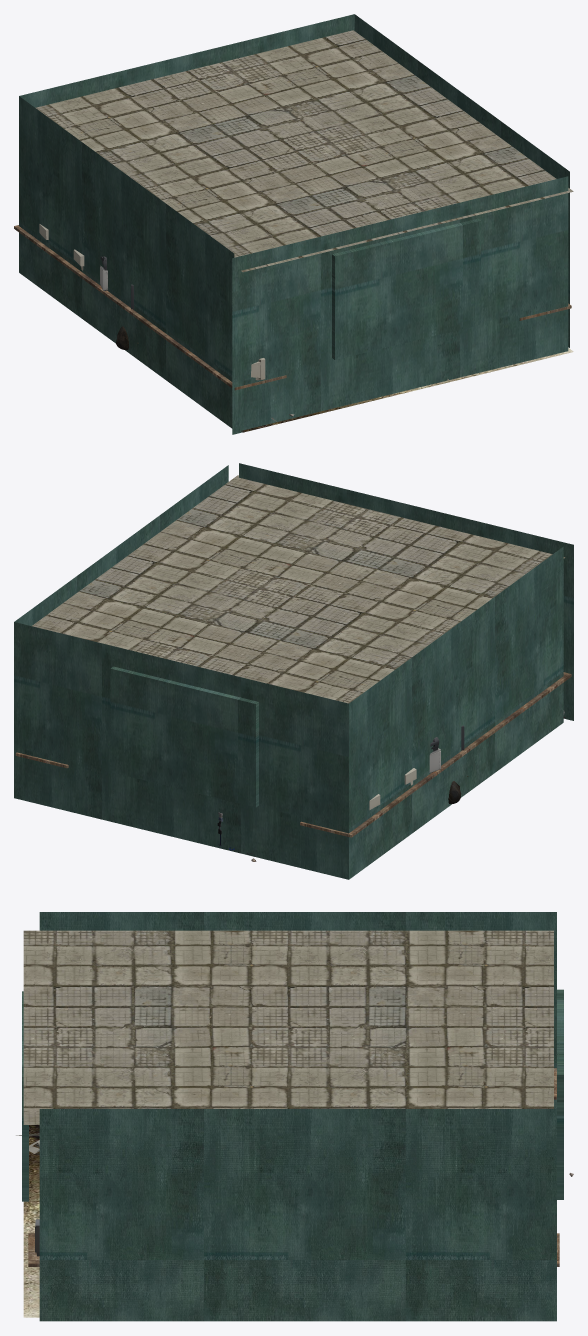
The model's file is office_is_old_abandoned_free.glb.
3 views of the same model, one above another, from view 1: azimuth 30°, elevation 25°; view 2: azimuth 150°, elevation 25°; view 3: azimuth 270°, elevation 25° (orthographic). The views are drawn at different scales.
Visible parts, largest first — view 1: Plane.002, Plane.004, Cube, Plane; view 2: Plane.002, Plane.004, Cube; view 3: Plane.002, Plane.004, Plane.
Boxes of the visible parts, left/top/right/bottom form: Plane.002: left=19, top=14, right=569, bottom=434; Plane.004: left=35, top=30, right=573, bottom=272; Cube: left=14, top=225, right=286, bottom=390; Plane: left=241, top=348, right=573, bottom=432; Plane.002: left=14, top=463, right=573, bottom=879; Plane.004: left=32, top=475, right=565, bottom=703; Cube: left=300, top=672, right=571, bottom=837; Plane.002: left=22, top=912, right=563, bottom=1321; Plane.004: left=23, top=930, right=553, bottom=1124; Plane: left=23, top=1125, right=39, bottom=1317.
Bounding box in the file's own units: 7.24 × 3.63 × 8.52.
18 materials, 18 textured.
